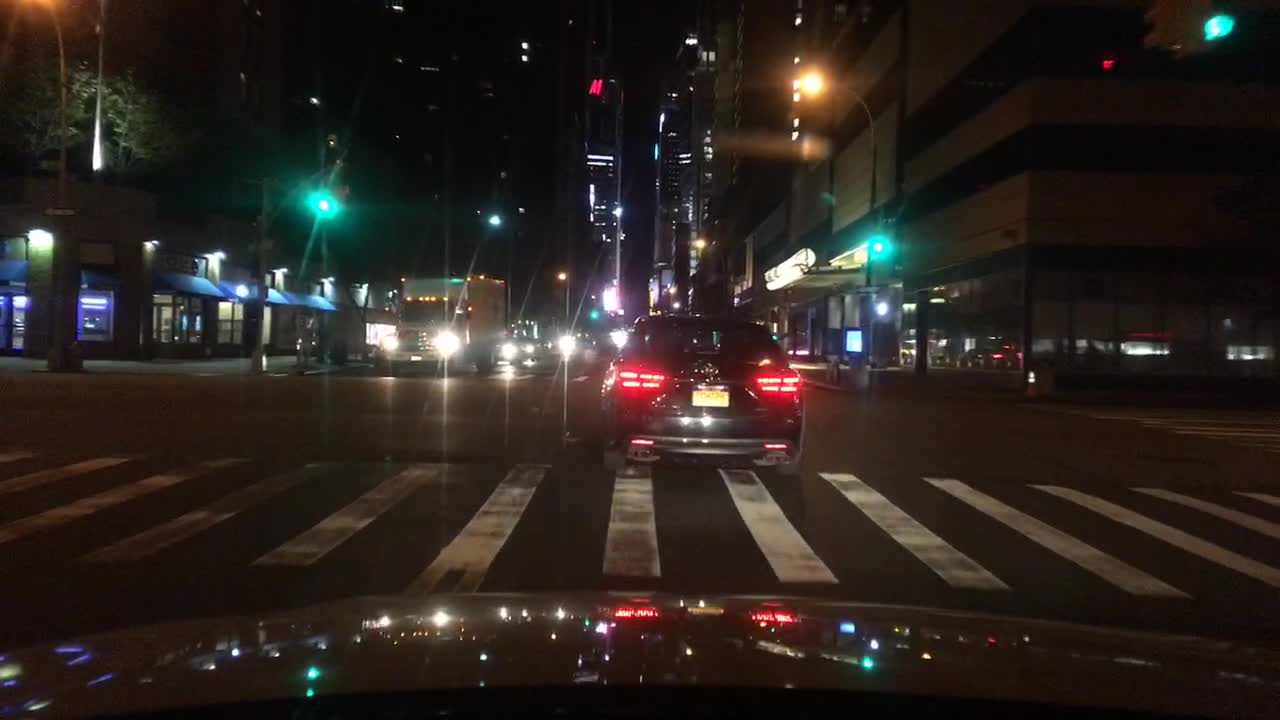car: (598, 310, 811, 473), (495, 330, 547, 366), (551, 328, 596, 358), (599, 327, 633, 353)
traffic light: (332, 184, 354, 213), (311, 189, 332, 217), (868, 236, 889, 257), (487, 211, 503, 229), (587, 308, 603, 323)
traffic sign: (40, 205, 75, 219), (39, 158, 59, 171), (607, 309, 618, 321)
truck: (379, 273, 507, 375)
